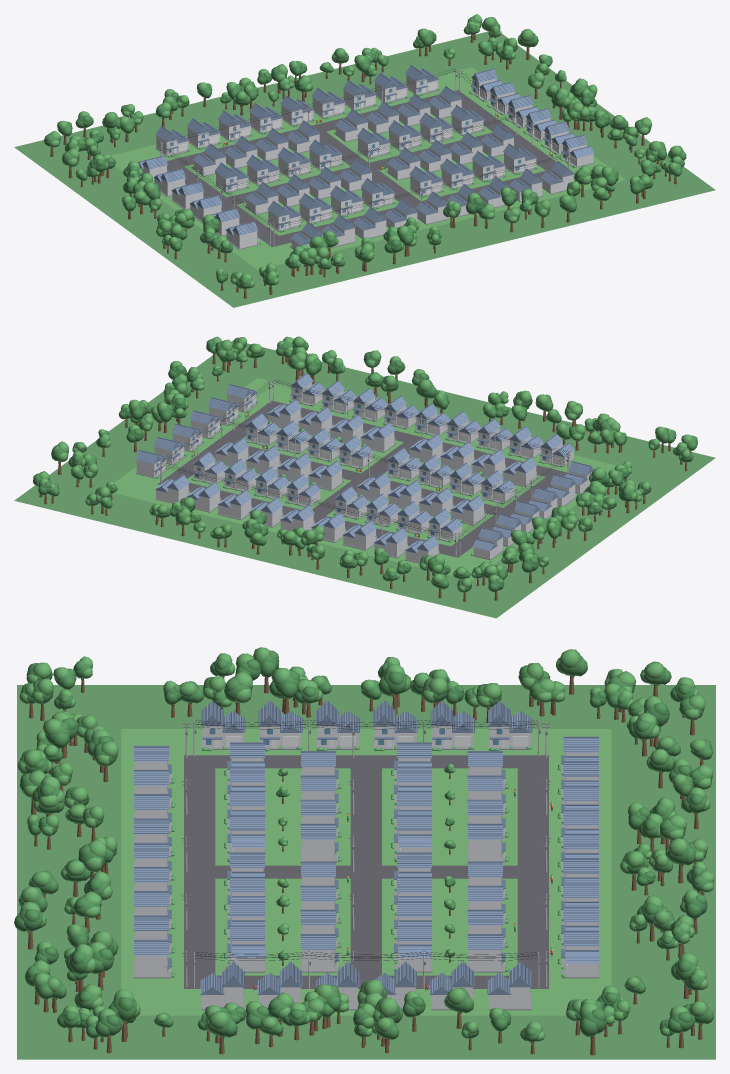
File: clusterfix.fbx
The picture shows the model from 3 angles, top to bottom: view 1: azimuth 30°, elevation 25°; view 2: azimuth 150°, elevation 25°; view 3: azimuth 270°, elevation 25°; orthographic projection. The views are drawn at different scales.
Visible parts, largest first — view 1: Alas_Hutan_Terluar, Lahan_Rumah_Sisi_Luar, Alas_Jalan_Aspal, Lahan_Blok_2_2, Lahan_Blok_1_2, Lahan_Blok_2_1, Lahan_Blok_1_1, Rumah_Luar_052, Rumah_001, Rumah_Luar_044, Rumah_009, Rumah_Luar_034 (+54 smaller); view 2: Alas_Hutan_Terluar, Alas_Jalan_Aspal, Lahan_Rumah_Sisi_Luar, Lahan_Blok_1_2, Lahan_Blok_2_2, Rumah_018, Rumah_002, Rumah_026, Rumah_020, Lahan_Blok_2_1, Rumah_010, Rumah_004 (+60 smaller); view 3: Alas_Hutan_Terluar, Alas_Jalan_Aspal, Lahan_Rumah_Sisi_Luar, Lahan_Blok_1_2, Lahan_Blok_1_1, Lahan_Blok_2_2, Lahan_Blok_2_1, Rumah_Luar_050, Rumah_Luar_061, Rumah_Luar_059, Rumah_Luar_055, Rumah_Luar_062 (+76 smaller).
Boxes of the visible parts, x1,y1,x2,y2 form: Alas_Hutan_Terluar: (14, 31, 715, 307); Lahan_Rumah_Sisi_Luar: (111, 67, 625, 269); Alas_Jalan_Aspal: (167, 90, 556, 246); Lahan_Blok_2_2: (326, 113, 492, 162); Lahan_Blok_1_2: (184, 147, 350, 197); Lahan_Blok_2_1: (379, 151, 545, 200); Lahan_Blok_1_1: (237, 186, 398, 235); Rumah_Luar_052: (559, 134, 594, 167); Rumah_001: (267, 200, 301, 232); Rumah_Luar_044: (311, 87, 346, 119); Rumah_009: (215, 162, 249, 193); Rumah_Luar_034: (155, 125, 190, 157); Alas_Hutan_Terluar: (14, 340, 715, 618); Alas_Jalan_Aspal: (157, 400, 567, 557); Lahan_Rumah_Sisi_Luar: (114, 378, 616, 580); Lahan_Blok_1_2: (326, 490, 492, 546); Lahan_Blok_2_2: (187, 455, 350, 509); Rumah_018: (338, 435, 373, 469); Rumah_002: (480, 470, 515, 503); Rumah_026: (285, 474, 320, 506); Rumah_020: (307, 428, 342, 461); Lahan_Blok_2_1: (244, 417, 403, 473); Rumah_010: (427, 508, 462, 542); Rumah_004: (449, 462, 483, 496); Alas_Hutan_Terluar: (17, 685, 715, 1059); Alas_Jalan_Aspal: (184, 755, 548, 988); Lahan_Rumah_Sisi_Luar: (121, 729, 611, 1015); Lahan_Blok_1_2: (382, 768, 517, 865); Lahan_Blok_1_1: (215, 768, 350, 865); Lahan_Blok_2_2: (382, 878, 517, 975); Lahan_Blok_2_1: (215, 878, 350, 975); Rumah_Luar_050: (557, 930, 598, 978); Rumah_Luar_061: (488, 700, 532, 750); Rumah_Luar_059: (430, 700, 474, 751); Rumah_Luar_055: (316, 700, 360, 750); Rumah_Luar_062: (487, 961, 531, 1010).
Size of the model in its own units: 8524 by 534 by 6728.
